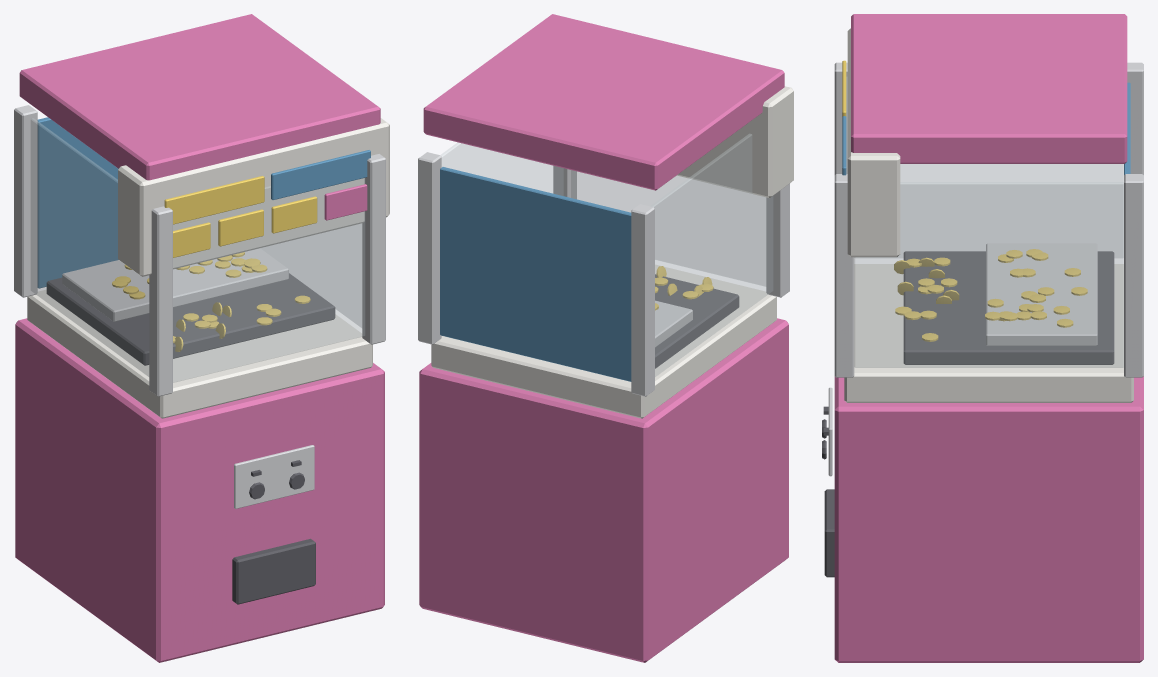
The model's file is amusement-arcade-and-seaside-pier-pusher-machine-46a72311__35408.glb.
The picture shows the model from 3 angles, left to right: view 1: azimuth 30°, elevation 25°; view 2: azimuth 150°, elevation 25°; view 3: azimuth 270°, elevation 25°; orthographic projection. The views are drawn at different scales.
Parts seen in each view (by area): view 1: pusher-machine, pusher-shelf/metal, pusher-shelf/yellow; view 2: pusher-machine, pusher-shelf/metal; view 3: pusher-machine, pusher-shelf/metal, pusher-shelf/yellow.
Boxes of the visible parts, x1,y1,x2,y2 form: pusher-machine: [14, 14, 389, 662]; pusher-shelf/metal: [62, 248, 288, 321]; pusher-shelf/yellow: [112, 252, 267, 299]; pusher-machine: [418, 14, 793, 662]; pusher-shelf/metal: [655, 300, 692, 347]; pusher-machine: [822, 14, 1143, 662]; pusher-shelf/metal: [986, 243, 1097, 345]; pusher-shelf/yellow: [985, 249, 1087, 327].
Size of the model in its own units: 0.94 by 1.78 by 0.9781.
